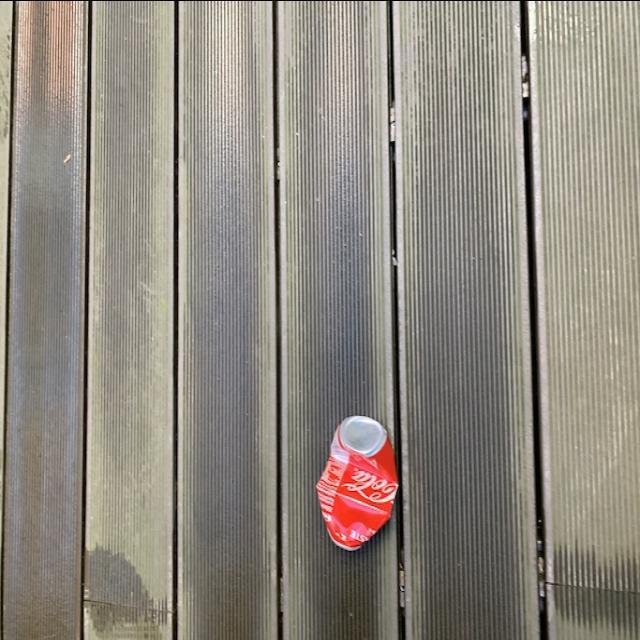Aluminum Can: (316, 412, 396, 554)
